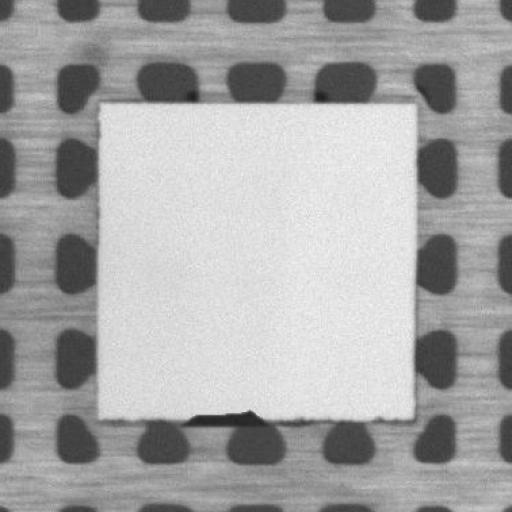DIE_BROKEN: (176, 405, 268, 424)
